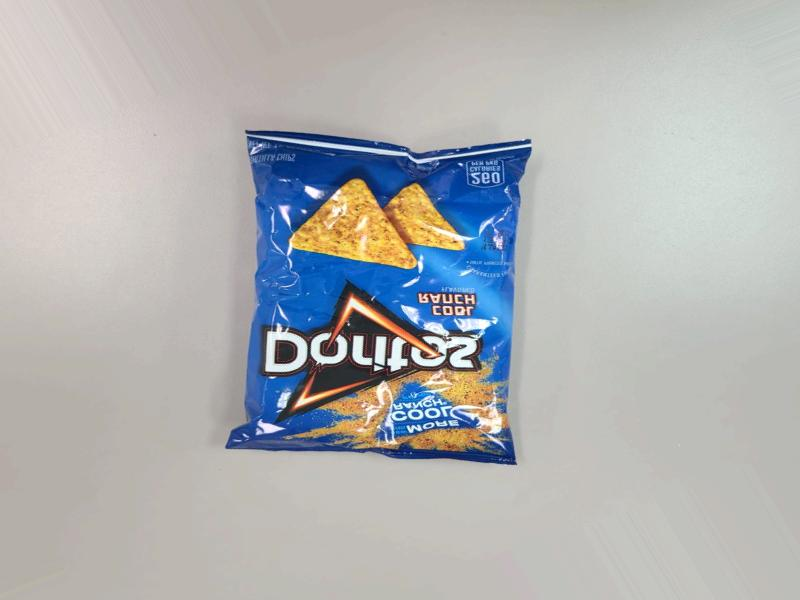doritos: (240, 114, 508, 495)
